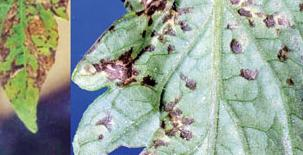Tomato leaf bacterial spot: (72, 0, 303, 151), (0, 0, 70, 137)
